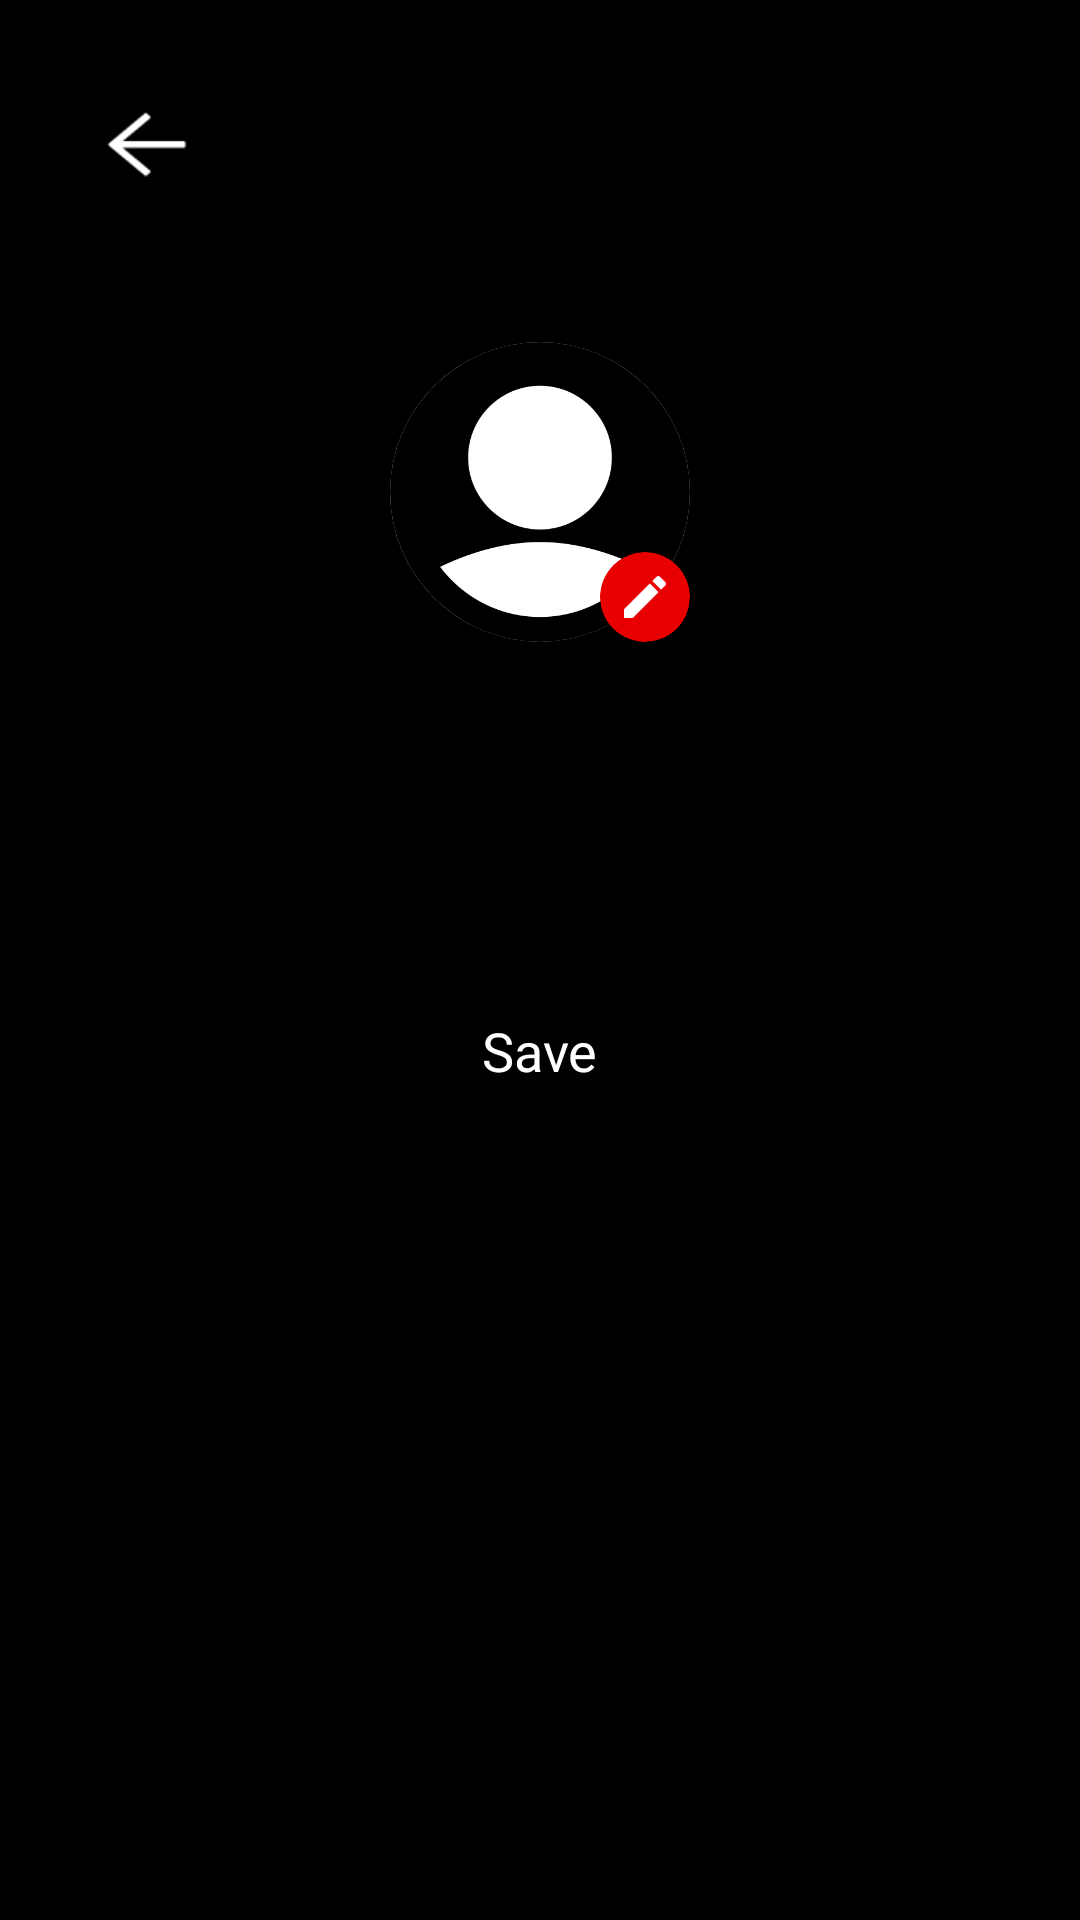

Icons on this 1080×1920 Android screen, each with the point to tap as point (x, y):
back: point (147, 144)
edit photo: point (645, 597)
